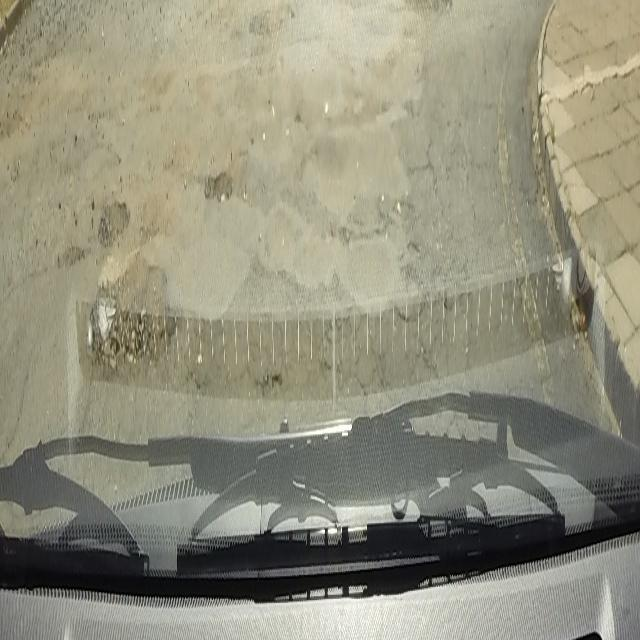pothole: (87, 250, 181, 370), (95, 184, 132, 248), (400, 0, 456, 23), (202, 164, 234, 204)
